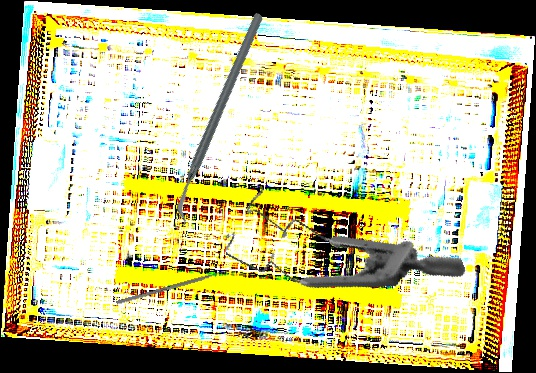Chopper: (111, 10, 329, 226)
Pusher: (115, 267, 236, 305)
Speculum: (208, 129, 468, 356)
